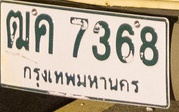txt03: (32, 12, 55, 55)
txt13: (5, 9, 31, 51)
